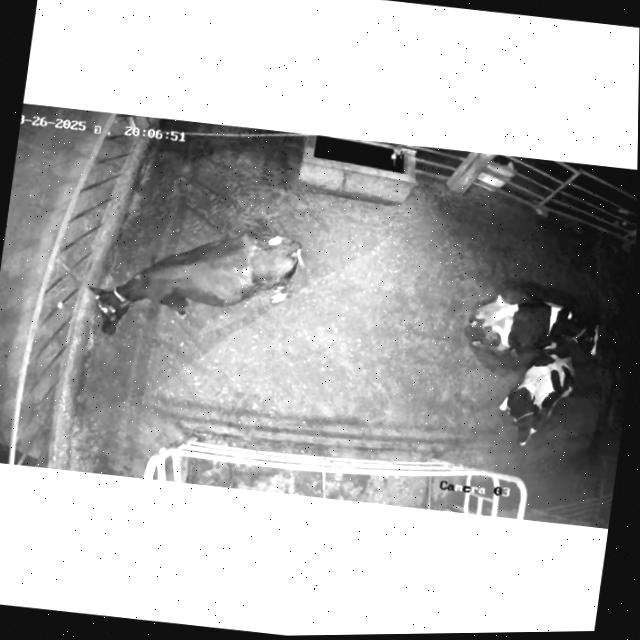stand: (72, 204, 318, 374)
